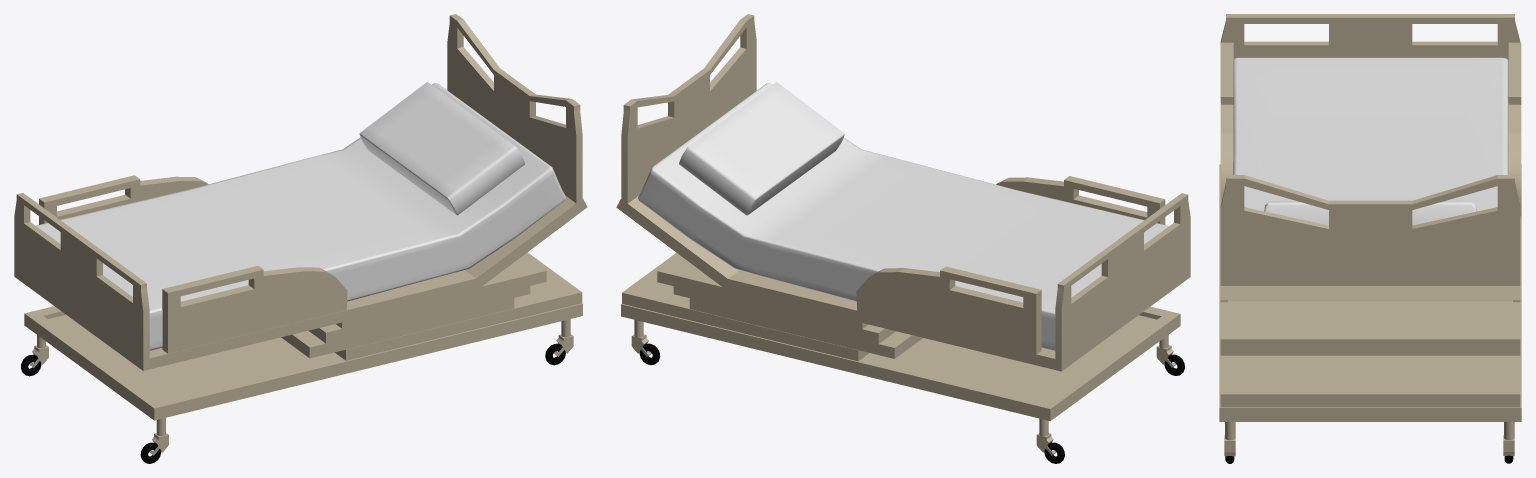
File: Bed.fbx
The picture shows the model from 3 angles, left to right: view 1: azimuth 30°, elevation 25°; view 2: azimuth 150°, elevation 25°; view 3: azimuth 270°, elevation 25°; orthographic projection. The views are drawn at different scales.
Visible parts, largest first — view 1: bedding, pCube3, pCube16, pCube18, pCube17, pCube19, pCube7, pCube4, pCube11, pCube5, pCube8, pCube6; view 2: bedding, pCube3, pCube16, pCube18, pCube11, pCube19, pCube7, pCube4, pCube17, pCube8, pCube5, pCube6; view 3: bedding, pCube19, pCube4, pCube8, pCube18, pCube3, pCube7, pCube11, pCube16, pCube17, pCube5.
Boxes of the visible parts, x1,y1,x2,y2 form: bedding: (36, 83, 565, 350); pCube3: (24, 303, 582, 420); pCube16: (359, 82, 524, 215); pCube18: (14, 193, 149, 370); pCube17: (162, 265, 347, 353); pCube19: (447, 14, 582, 205); pCube7: (145, 196, 587, 370); pCube4: (335, 252, 582, 360); pCube11: (39, 175, 208, 224); pCube5: (281, 298, 514, 358); pCube8: (336, 254, 546, 328); pCube6: (308, 286, 530, 343); bedding: (638, 83, 1168, 351); pCube3: (621, 304, 1180, 421); pCube16: (679, 82, 844, 215); pCube18: (1055, 193, 1190, 371); pCube11: (856, 266, 1041, 355); pCube19: (621, 14, 756, 205); pCube7: (616, 196, 1059, 370); pCube4: (622, 253, 869, 361); pCube17: (996, 176, 1165, 224); pCube8: (657, 255, 868, 331); pCube5: (689, 298, 922, 358); pCube6: (673, 283, 895, 343); bedding: (1233, 57, 1508, 211); pCube19: (1220, 175, 1520, 285); pCube4: (1220, 355, 1520, 407); pCube8: (1220, 300, 1520, 351); pCube18: (1220, 14, 1520, 102); pCube3: (1219, 164, 1521, 421); pCube7: (1220, 103, 1520, 302); pCube11: (1508, 42, 1521, 216); pCube16: (1264, 201, 1476, 225); pCube17: (1221, 42, 1233, 203); pCube5: (1220, 352, 1520, 355).
Size of the model in its own units: 9.16 by 5.03 by 4.64.
